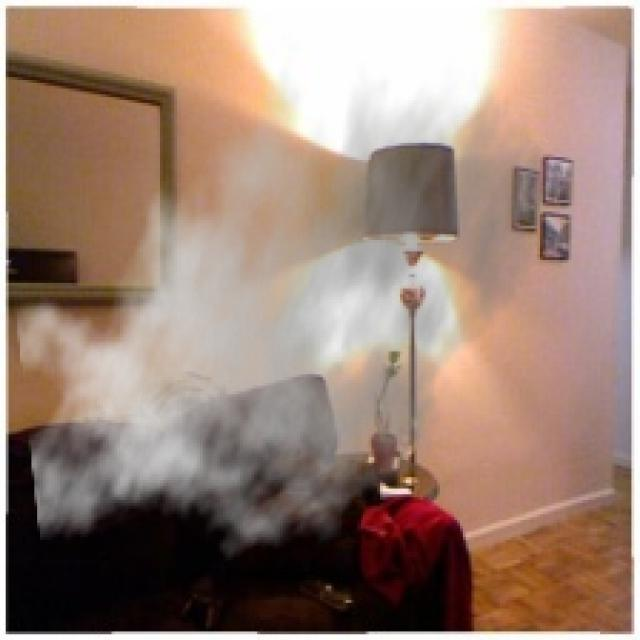Smoke: (14, 31, 552, 578)
